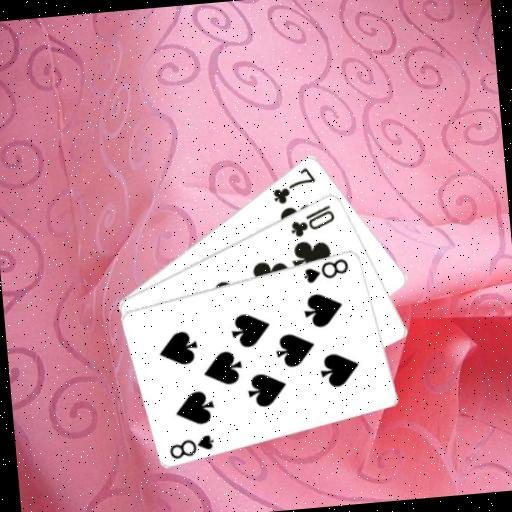10C: (285, 201, 338, 239)
7C: (268, 163, 320, 206)
8S: (299, 254, 352, 285), (166, 430, 218, 461)
